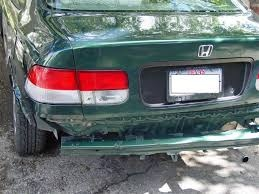Scratch: (10, 79, 27, 113)
Smashed: (26, 105, 259, 153)
